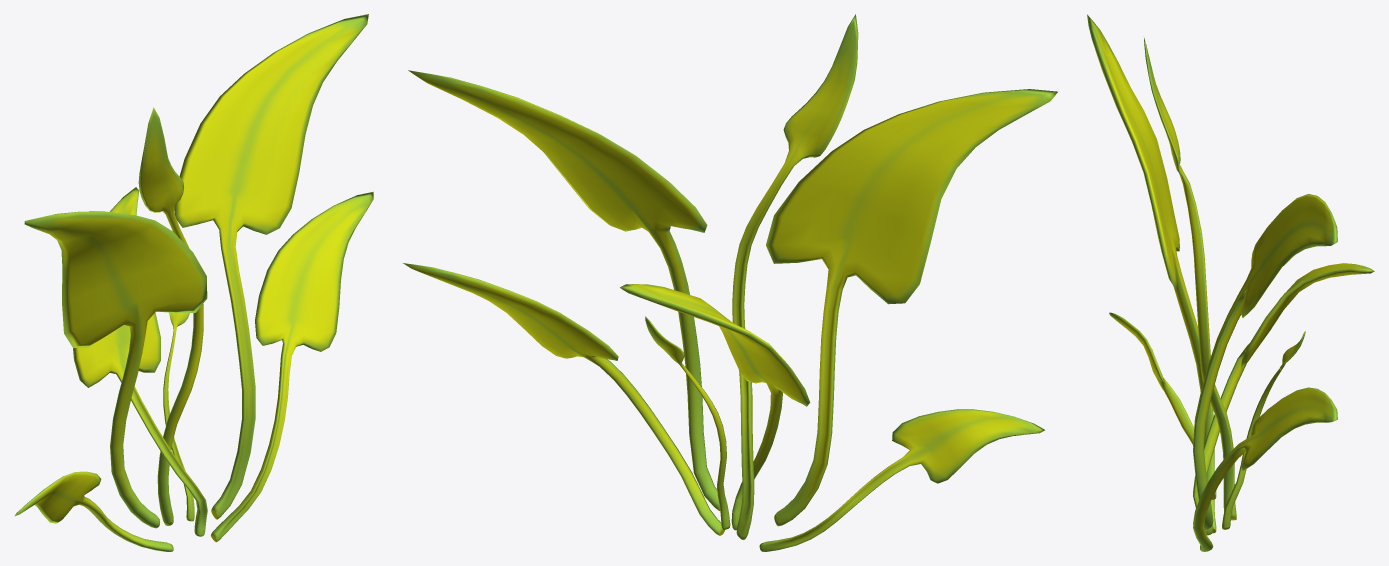
File: Seaweed_Big_Leaf.FBX
The picture shows the model from 3 angles, left to right: view 1: azimuth 30°, elevation 25°; view 2: azimuth 150°, elevation 25°; view 3: azimuth 270°, elevation 25°; orthographic projection. The views are drawn at different scales.
Visible parts, largest first — view 1: Big_Leaf; view 2: Big_Leaf; view 3: Big_Leaf.
Boxes of the visible parts, <box> form: Big_Leaf: <box>15,14,373,551</box>; Big_Leaf: <box>403,14,1057,551</box>; Big_Leaf: <box>1087,14,1374,551</box>.
Bounding box in the file's own units: 7.62 × 7.36 × 4.06.
